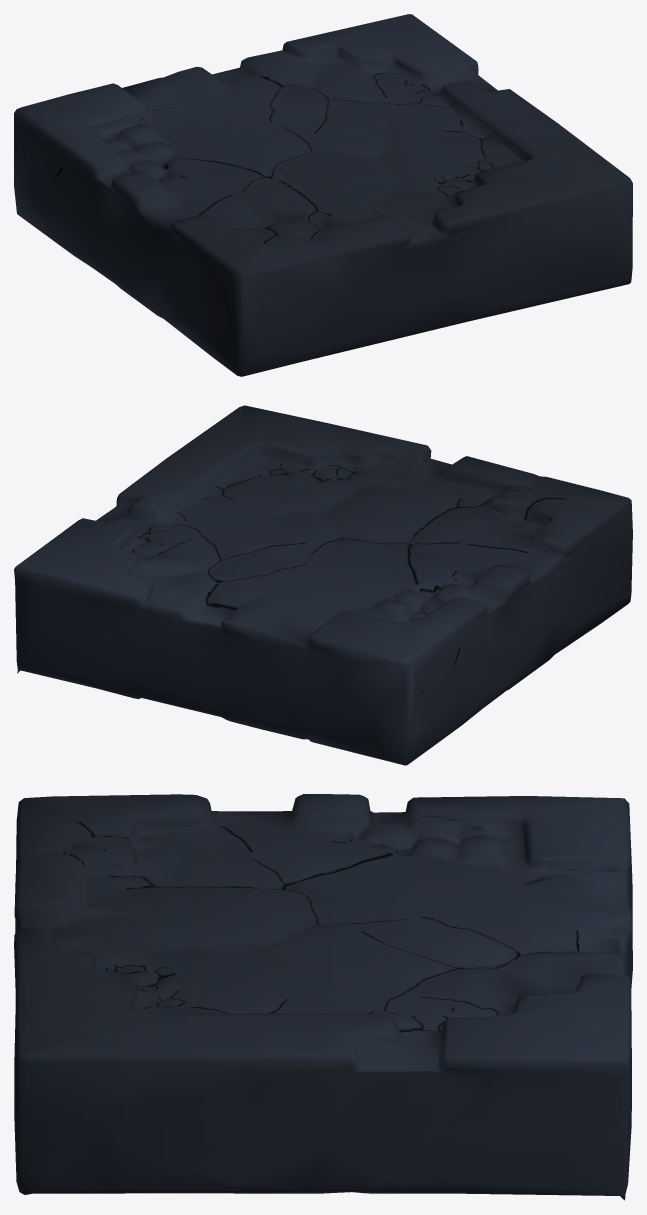
Rendered from wall1.fbx.
3 views of the same model, one above another, from view 1: azimuth 30°, elevation 25°; view 2: azimuth 150°, elevation 25°; view 3: azimuth 270°, elevation 25° (orthographic). The views are drawn at different scales.
Visible parts, largest first — view 1: LOW; view 2: LOW; view 3: LOW.
Part boxes in pixels (left/top/right/bottom): LOW: left=14, top=14, right=632, bottom=376; LOW: left=14, top=405, right=632, bottom=765; LOW: left=14, top=794, right=632, bottom=1200.
Bounding box in the file's own units: 3.99 × 1.08 × 3.98.
Materials: 1 (1 with a texture image).
